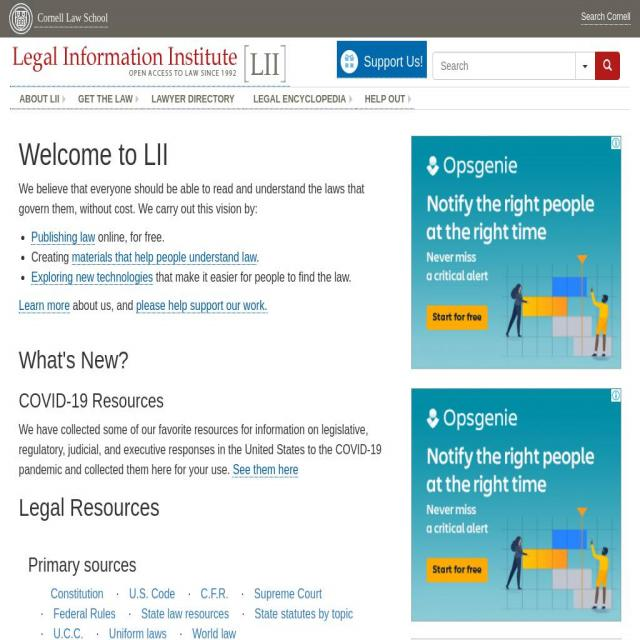button: (411, 387, 621, 622), (411, 136, 622, 369), (337, 44, 427, 78), (71, 250, 256, 265), (244, 88, 356, 109), (142, 88, 244, 109), (136, 298, 268, 314), (34, 0, 108, 28), (31, 270, 153, 285), (68, 88, 143, 109), (355, 88, 415, 109), (580, 0, 630, 25), (10, 88, 69, 109), (232, 462, 298, 478), (31, 230, 95, 245), (9, 0, 34, 38), (19, 298, 70, 314), (595, 52, 620, 80), (576, 52, 594, 79), (612, 136, 622, 150), (612, 388, 622, 401)
field: (432, 52, 576, 80)
